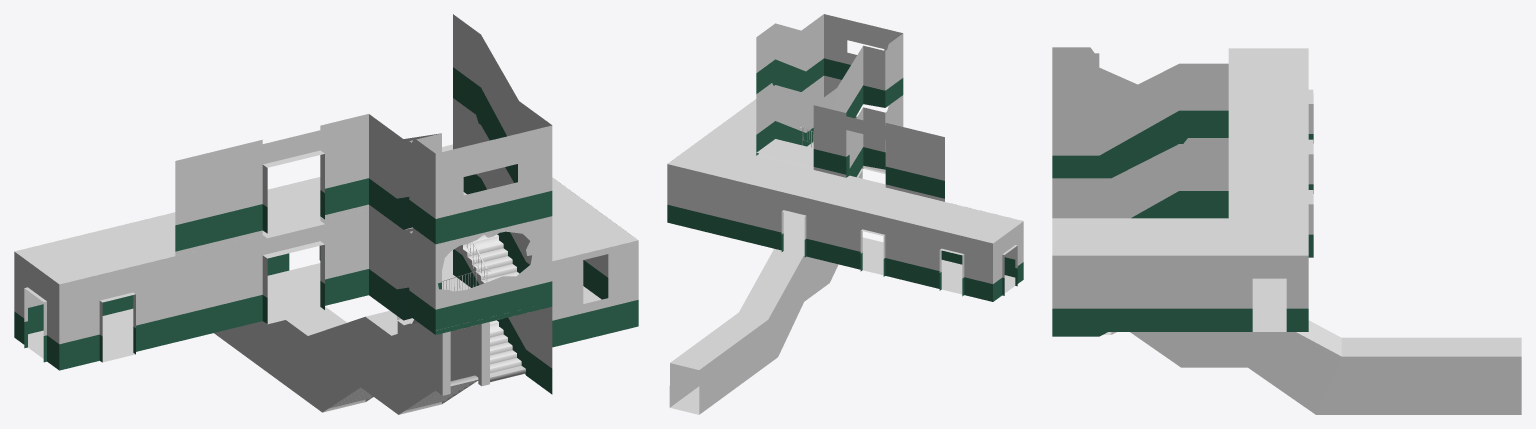
The model's file is building_inside.fbx.
3 renders of one model, left to right at view 1: azimuth 30°, elevation 25°; view 2: azimuth 150°, elevation 25°; view 3: azimuth 270°, elevation 25°, orthographic. The views are drawn at different scales.
Visible parts, largest first — view 1: stairs_right.015, stairs_right.017, stairs_wallplane.003, podval, floor1st.005, stairs_right.030, stairs_right.020, floor1st.001, podval.004, stairs_right.021, stairs_low.002, stairs_low.003 (+1 smaller); view 2: stairs_wallplane.003, floor1st.005, podval, stairs_right.015, stairs_right.030, stairs_right.020, stairs_right.017, floor1st.001, stairs_right.012; view 3: podval, floor1st.005, stairs_wallplane.003, stairs_right.030, stairs_right.020, stairs_right.015, floor1st.001.
Part boxes in pixels (bbox=[...]): stairs_right.015: bbox=[175, 114, 493, 251]; stairs_right.017: bbox=[175, 204, 493, 342]; stairs_wallplane.003: bbox=[14, 240, 638, 370]; podval: bbox=[214, 306, 478, 414]; floor1st.005: bbox=[15, 144, 637, 284]; stairs_right.030: bbox=[453, 14, 552, 229]; stairs_right.020: bbox=[453, 105, 552, 320]; floor1st.001: bbox=[28, 250, 601, 362]; podval.004: bbox=[397, 321, 489, 395]; stairs_right.021: bbox=[453, 247, 552, 394]; stairs_low.002: bbox=[397, 234, 519, 324]; stairs_low.003: bbox=[490, 320, 525, 382]; stairs_wallplane.003: bbox=[667, 155, 1023, 301]; floor1st.005: bbox=[668, 99, 1023, 243]; podval: bbox=[669, 248, 838, 414]; stairs_right.015: bbox=[813, 23, 944, 198]; stairs_right.030: bbox=[756, 14, 863, 98]; stairs_right.020: bbox=[756, 75, 856, 155]; stairs_right.017: bbox=[813, 95, 944, 260]; floor1st.001: bbox=[783, 221, 1015, 294]; stairs_right.012: bbox=[756, 139, 813, 169]; podval: bbox=[1130, 320, 1521, 414]; floor1st.005: bbox=[1052, 48, 1308, 255]; stairs_wallplane.003: bbox=[1052, 89, 1313, 331]; stairs_right.030: bbox=[1052, 63, 1228, 178]; stairs_right.020: bbox=[1052, 144, 1228, 218]; stairs_right.015: bbox=[1052, 47, 1137, 97]; floor1st.001: bbox=[1252, 280, 1286, 331].
Size of the model in its own units: 1683 by 1372 by 1588.
